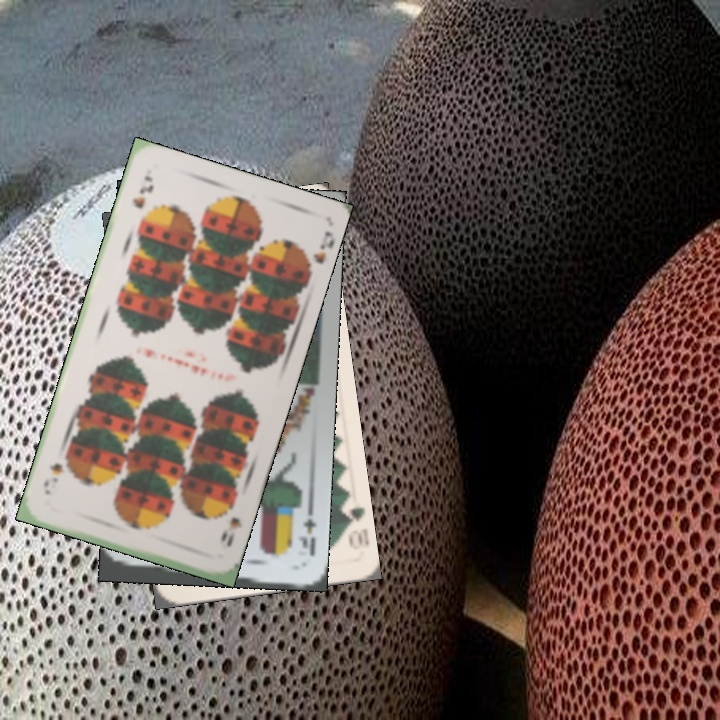EK: (295, 505, 319, 558)
G10: (337, 497, 367, 553)
S9: (217, 498, 244, 549), (128, 171, 156, 212)
